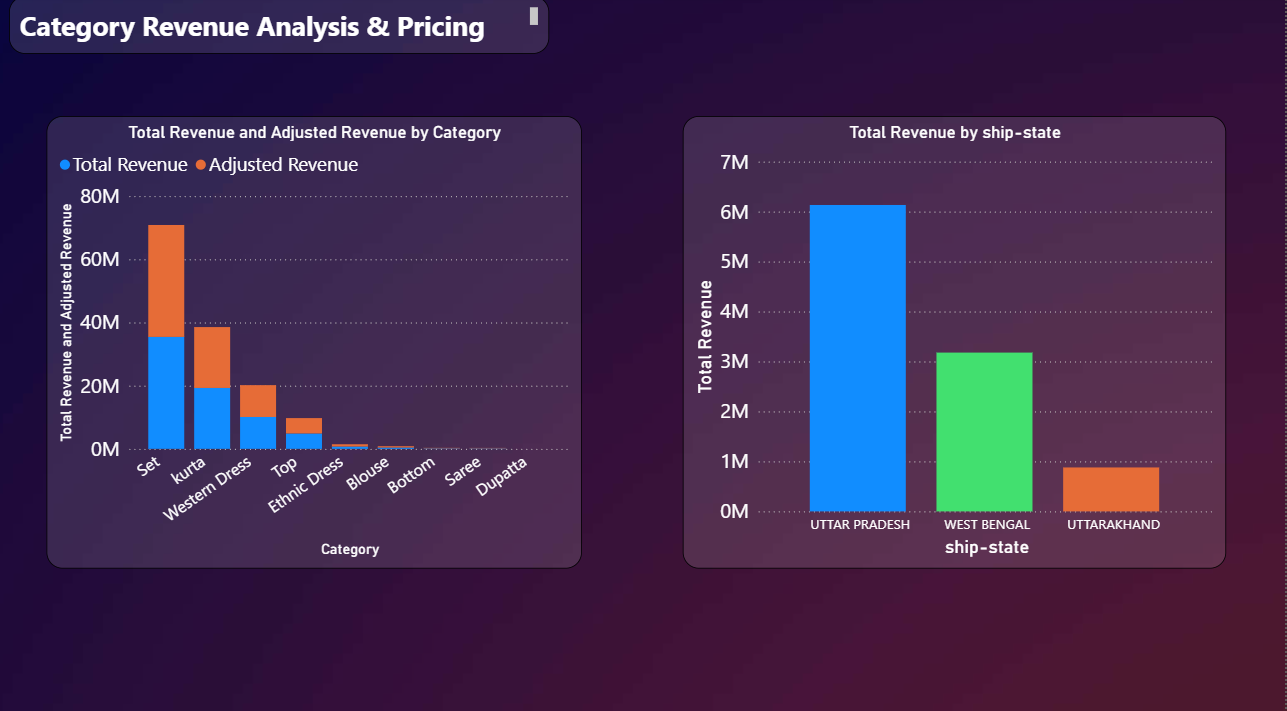

What the dashboard file says about the page in this screenshot:
{"tool":"powerbi","page":{"name":"Page 5","canvas":[1280,720],"ordinal":1},"visuals":[{"type":"textbox","box":[10,0,537.4,57.2],"z":0},{"type":"columnChart","fields":{"Category":["dt clean.Category"],"Y":["dt clean.Total Revenue","dt clean.Adjusted Revenue"]},"box":[46.7,119.4,532.4,450.1],"z":1000},{"type":"columnChart","fields":{"Category":["dt clean.ship-state"],"Y":["dt clean.Total Revenue"]},"box":[680.6,119.4,540.7,450.1],"z":2000}]}

Visuals, with their boxes in screenshot pixels (x1, y1, x2, y2), scaled from the page's 1280x720 canvas onto the 1287x711 screenshot:
textbox: 10:0:550:56
columnChart - dt clean.Category x dt clean.Total Revenue: 47:118:582:562
columnChart - dt clean.ship-state x dt clean.Total Revenue: 684:118:1228:562
